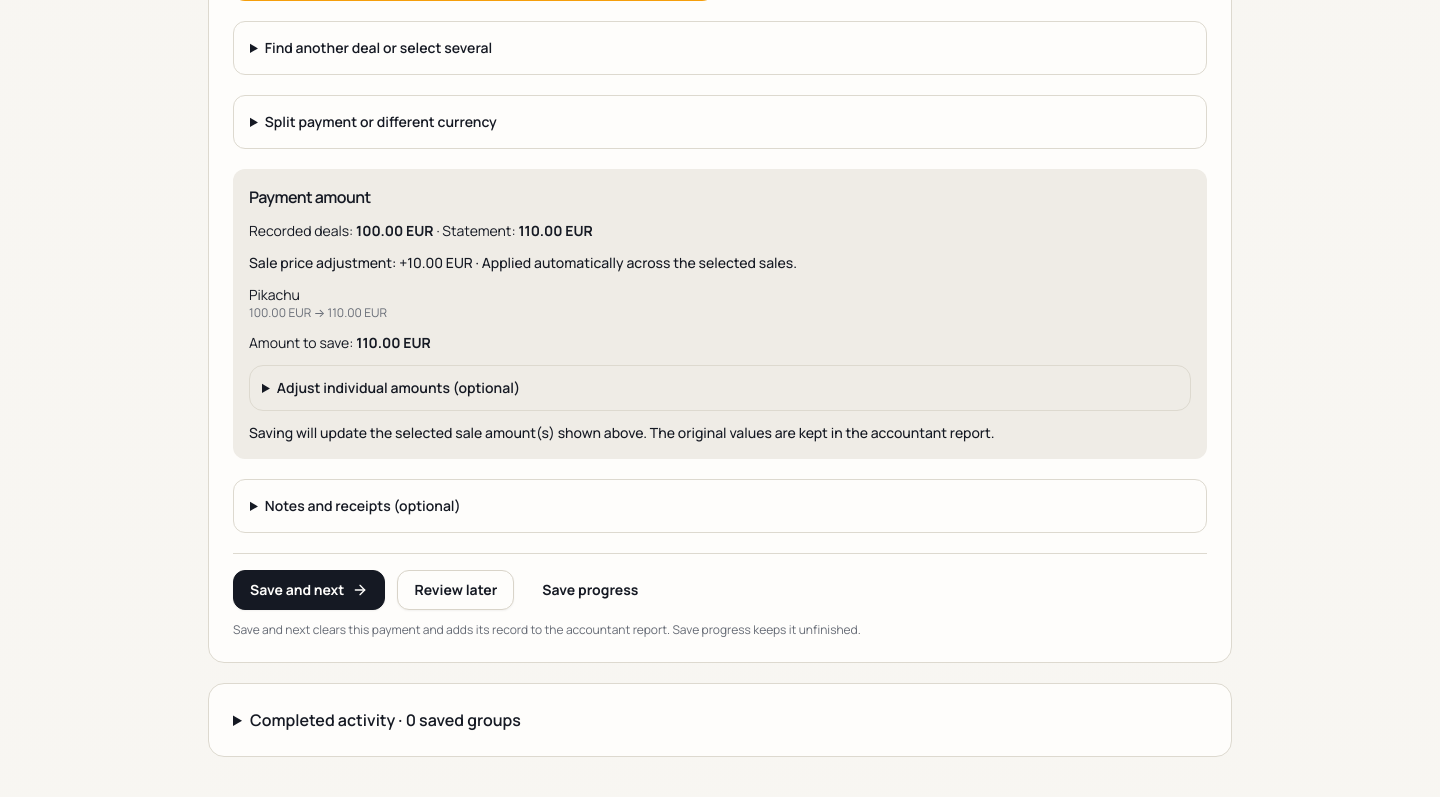
Test: guided payment review › saves progress without clearing the payment and restores an existing draft
(page scrolled)
Click the button "Save progress".
click(590, 590)  # box top-left (526, 570), bottom-right (654, 610)
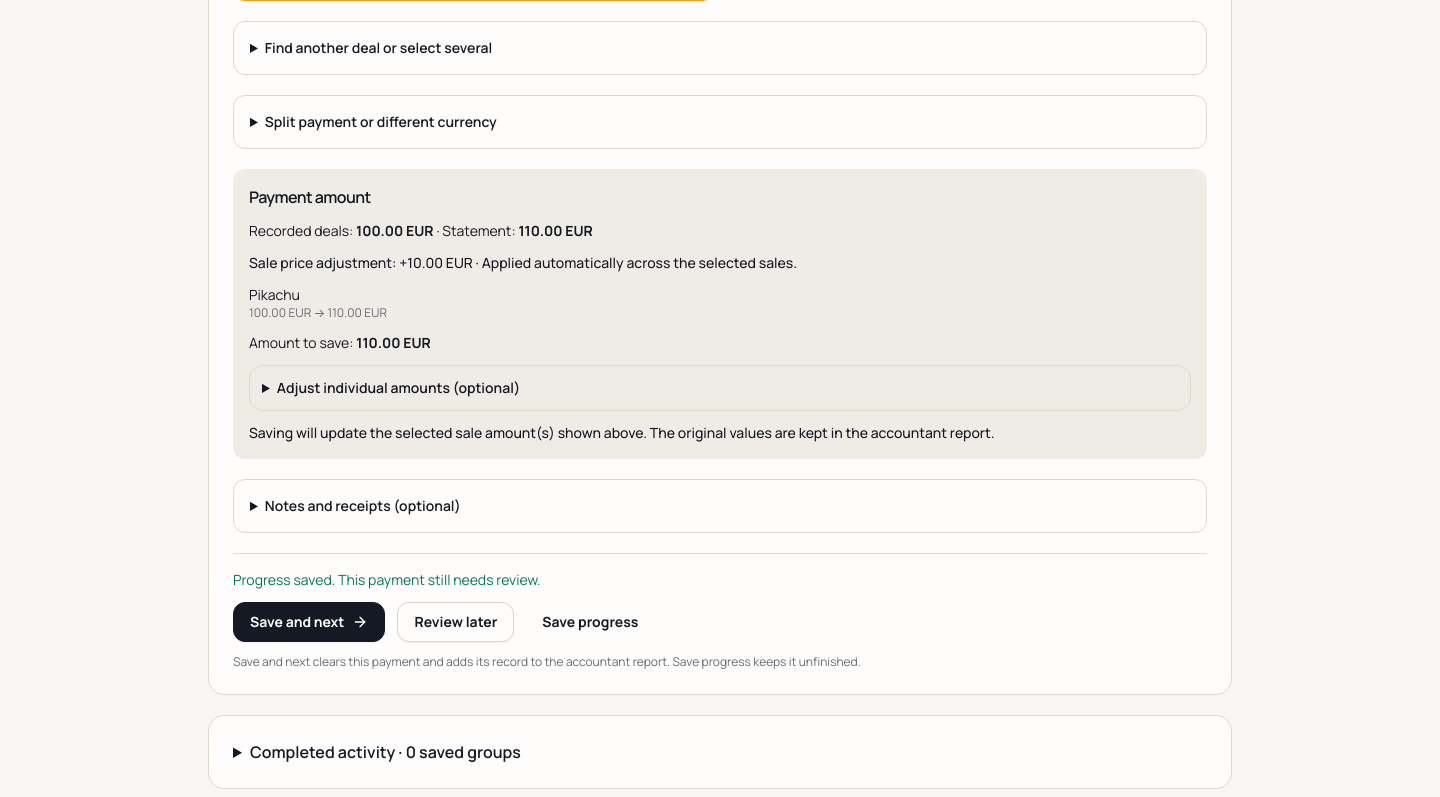
Expected: the text "Progress saved" is shown, top-left (233, 570), bottom-right (541, 589)
